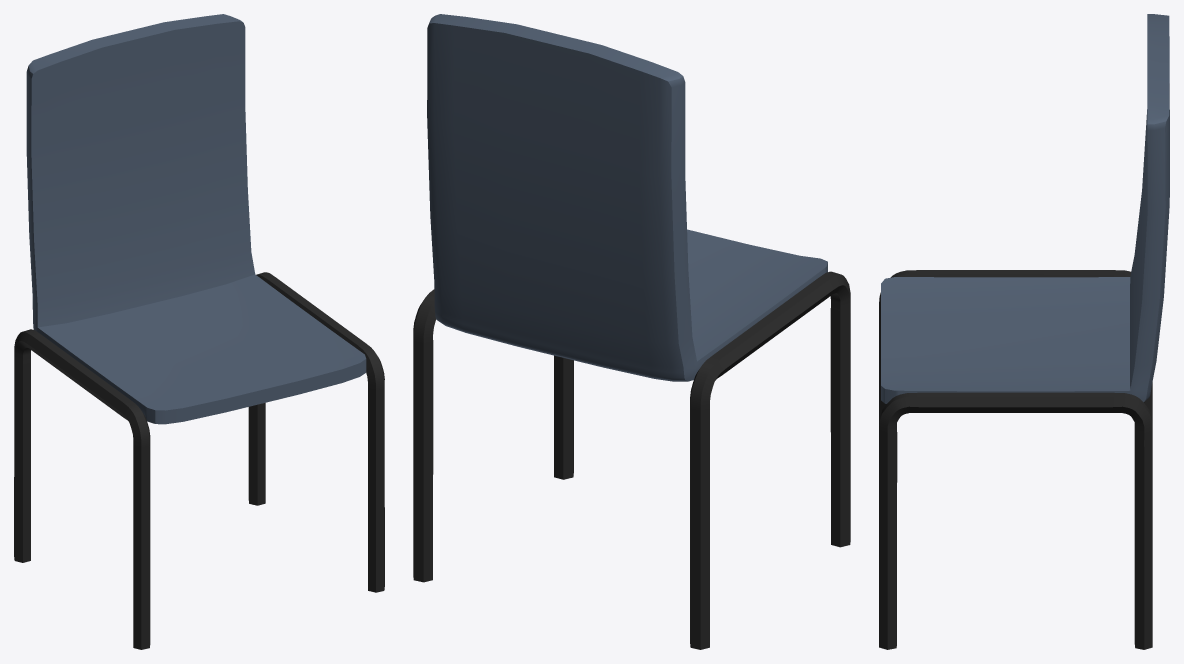
The model's file is chair_v1.fbx.
3 renders of one model, left to right at view 1: azimuth 30°, elevation 25°; view 2: azimuth 150°, elevation 25°; view 3: azimuth 270°, elevation 25°, orthographic. The views are drawn at different scales.
Visible parts, largest first — view 1: chairBase_geo, chairLegL_geo, chairLegR_geo; view 2: chairBase_geo, chairLegL_geo, chairLegR_geo; view 3: chairBase_geo, chairLegR_geo, chairLegL_geo.
Boxes of the visible parts, x1,y1,x2,y2 form: chairBase_geo: [26, 14, 366, 424]; chairLegL_geo: [14, 329, 150, 649]; chairLegR_geo: [248, 272, 384, 592]; chairBase_geo: [427, 14, 827, 381]; chairLegL_geo: [690, 271, 850, 649]; chairLegR_geo: [413, 289, 573, 582]; chairBase_geo: [881, 14, 1169, 403]; chairLegR_geo: [879, 392, 1152, 649]; chairLegL_geo: [879, 270, 1152, 423].
Size of the model in its own units: 90.82 by 170 by 85.05.
